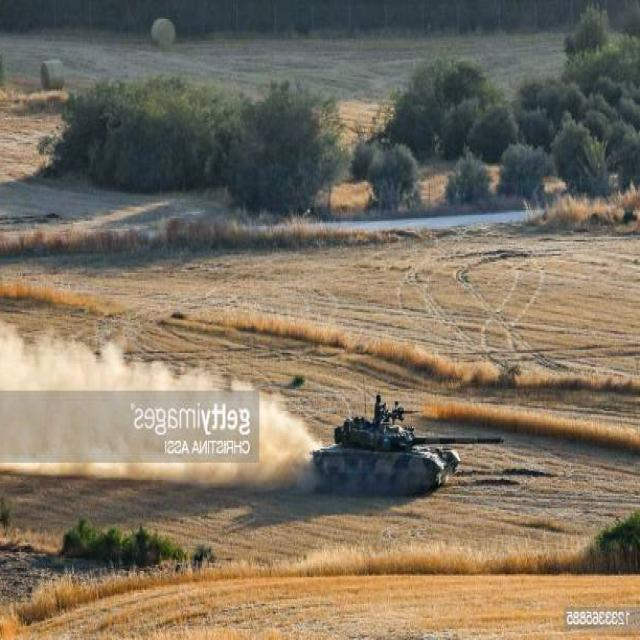Tanks: (310, 391, 504, 498)
